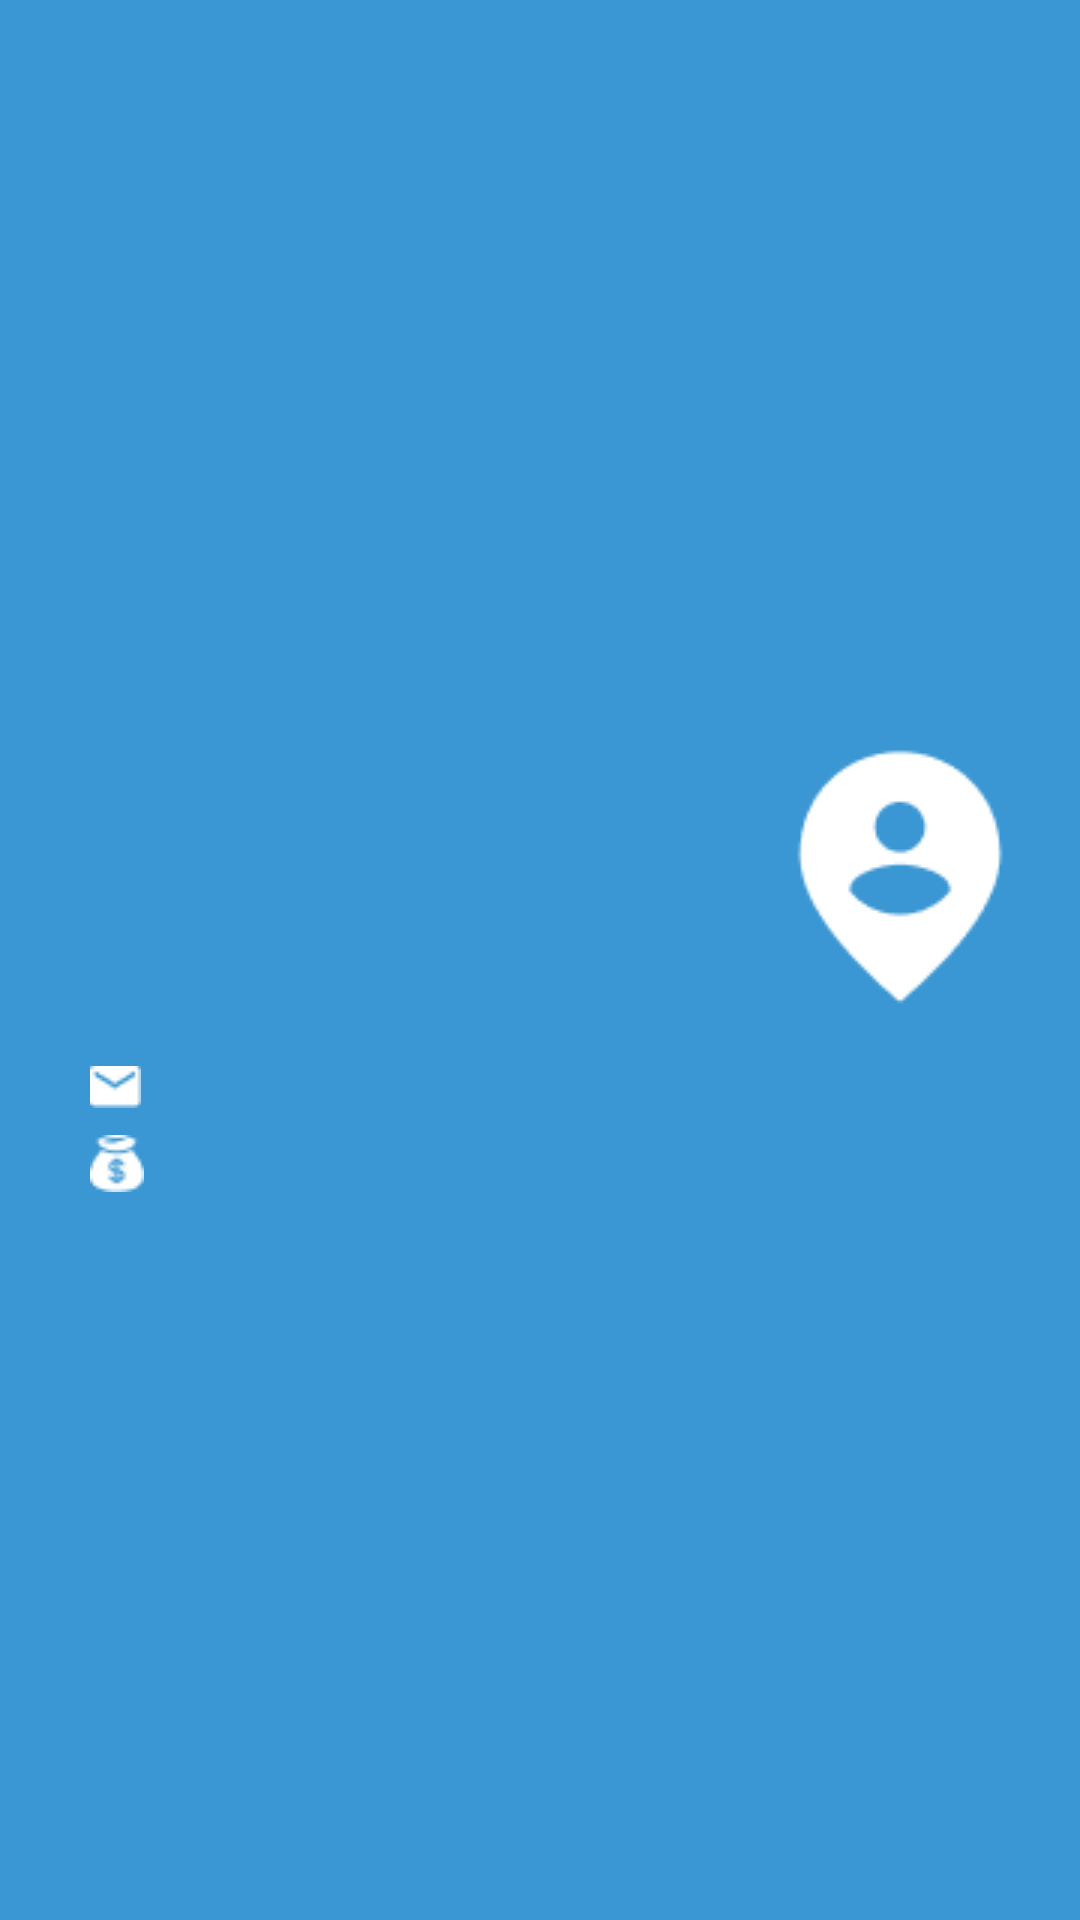

Icon bounding boxes for this 1080×1920 phone screenshot, format [x1, y1, x2, y2]:
email: [90, 1066, 141, 1108]
person: [797, 750, 1003, 1003]
